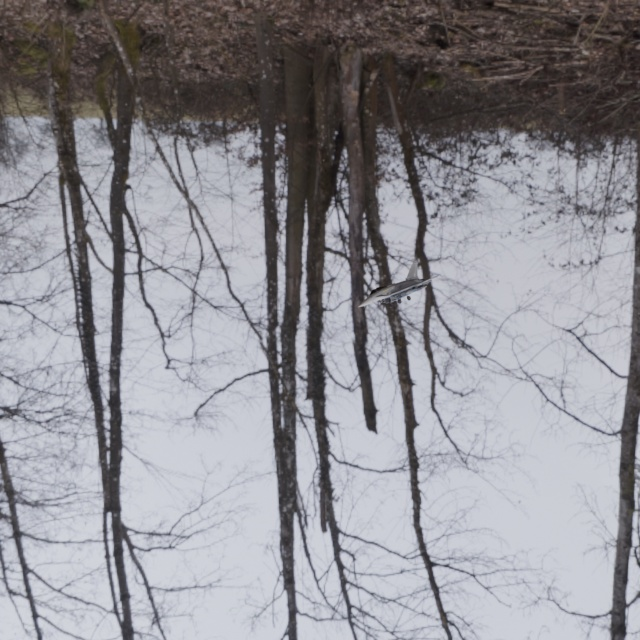eurofighter_typhoon_3d: (327, 251, 452, 327)
